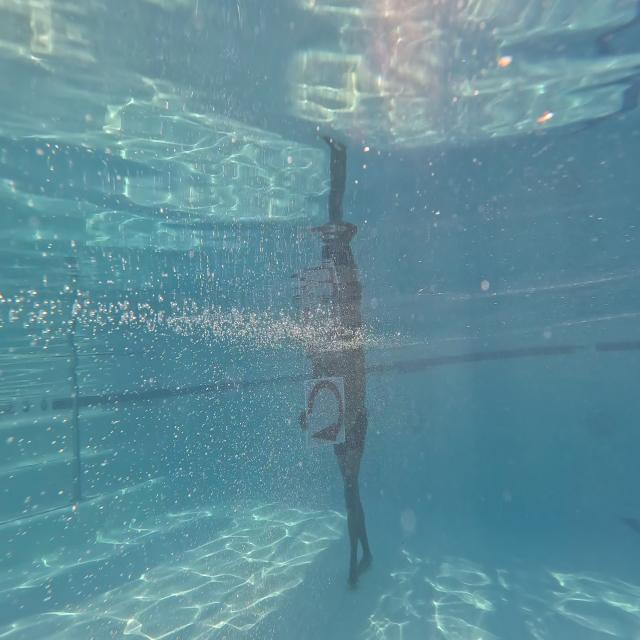red_side: (303, 377, 347, 448)
